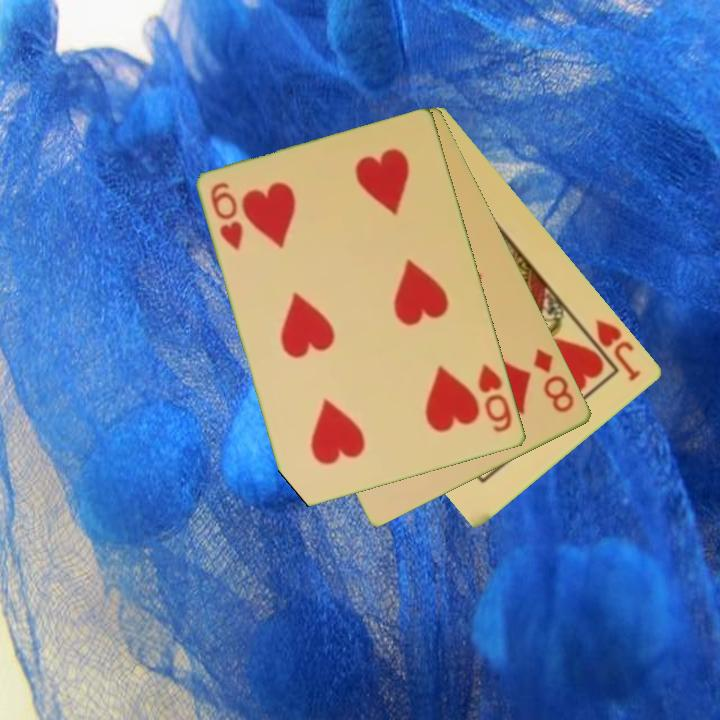6h: (475, 360, 516, 436), (207, 179, 247, 254)
8d: (530, 344, 578, 416)
Jh: (592, 315, 645, 385)
